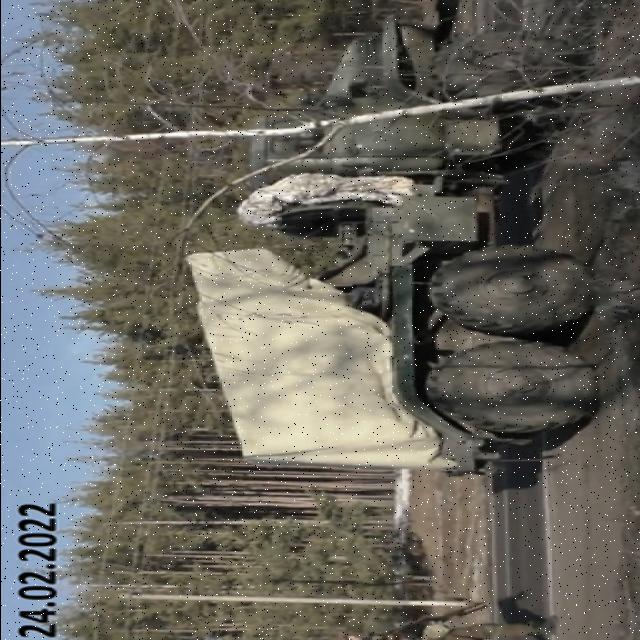MLRS: (178, 18, 596, 470)
